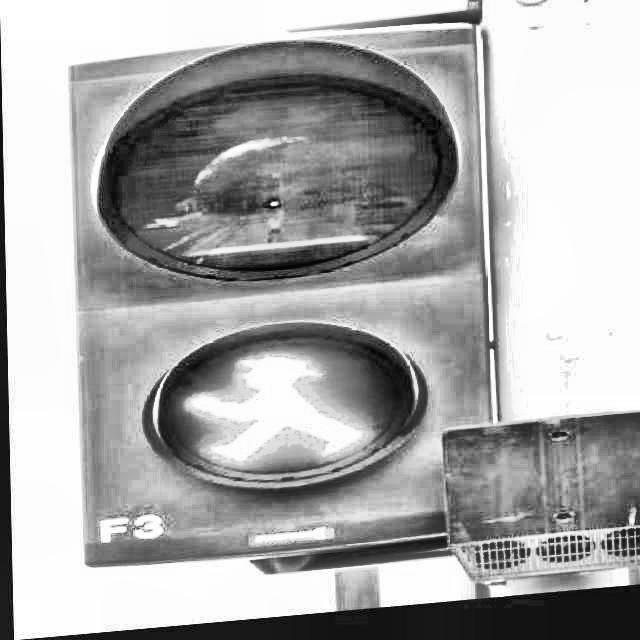semaforo pedestre: (28, 0, 536, 605)
